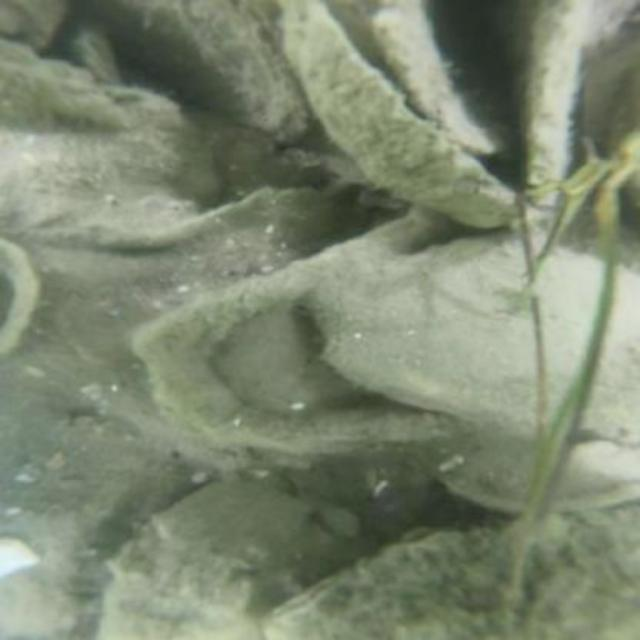Oyster-Closed: (128, 199, 516, 457), (299, 234, 638, 444), (272, 501, 638, 638), (0, 49, 204, 223), (102, 481, 301, 638), (95, 3, 310, 138), (373, 2, 517, 154), (2, 562, 72, 638), (574, 440, 638, 480)
Oyster-Open: (280, 0, 600, 229)
